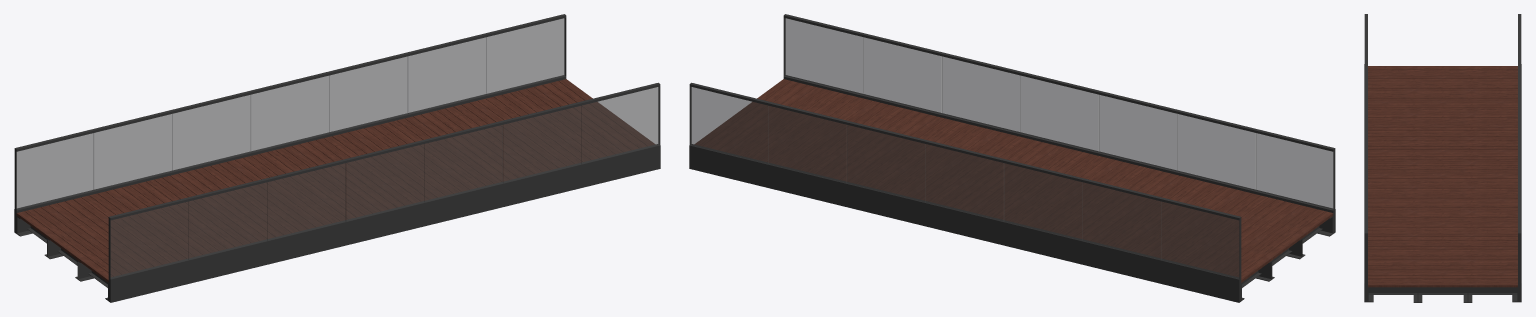
File: Beam_Glass2.glb
3 renders of one model, left to right at view 1: azimuth 30°, elevation 25°; view 2: azimuth 150°, elevation 25°; view 3: azimuth 270°, elevation 25°, orthographic. The views are drawn at different scales.
Bounding box in the file's own units: 10 × 1.48 × 3.04.
3 materials, 1 textured.
